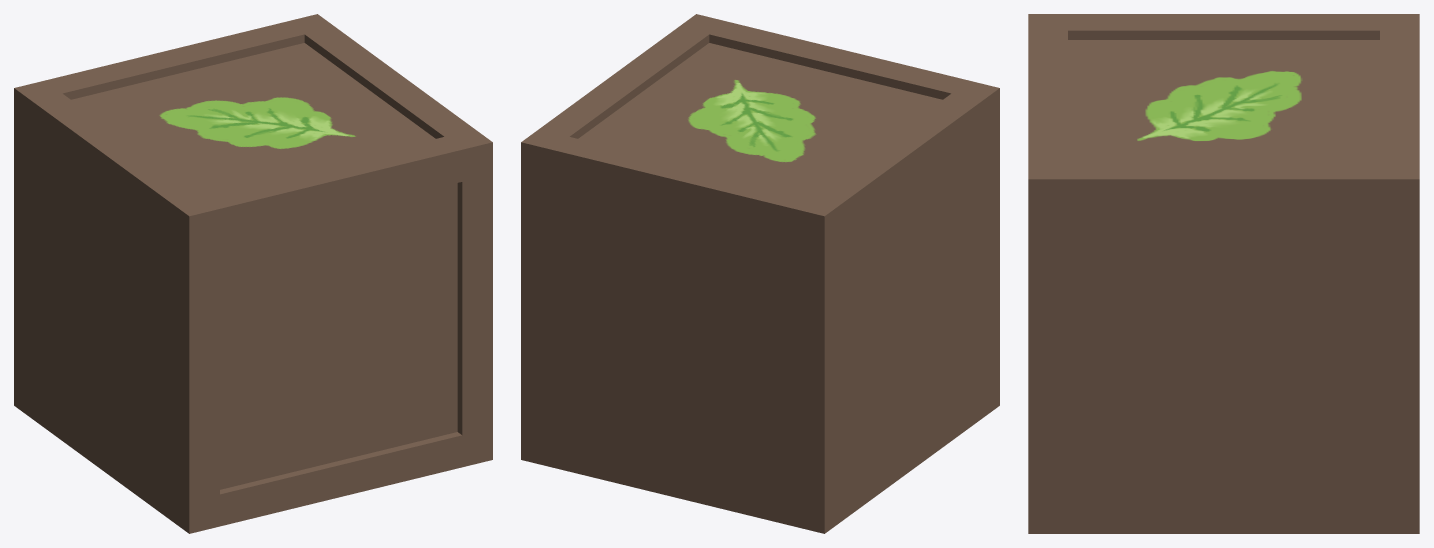
Rendered from ingredient_crate_salad.gltf.
The picture shows the model from 3 angles, left to right: view 1: azimuth 30°, elevation 25°; view 2: azimuth 150°, elevation 25°; view 3: azimuth 270°, elevation 25°; orthographic projection. The views are drawn at different scales.
Visible parts, largest first — view 1: Ingredient_Crate2; view 2: Ingredient_Crate2; view 3: Ingredient_Crate2.
Boxes of the visible parts, x1,y1,x2,y2 form: Ingredient_Crate2: (14, 14, 492, 533); Ingredient_Crate2: (521, 14, 999, 533); Ingredient_Crate2: (1028, 14, 1419, 533).
Size of the model in its own units: 1 by 1 by 1.
